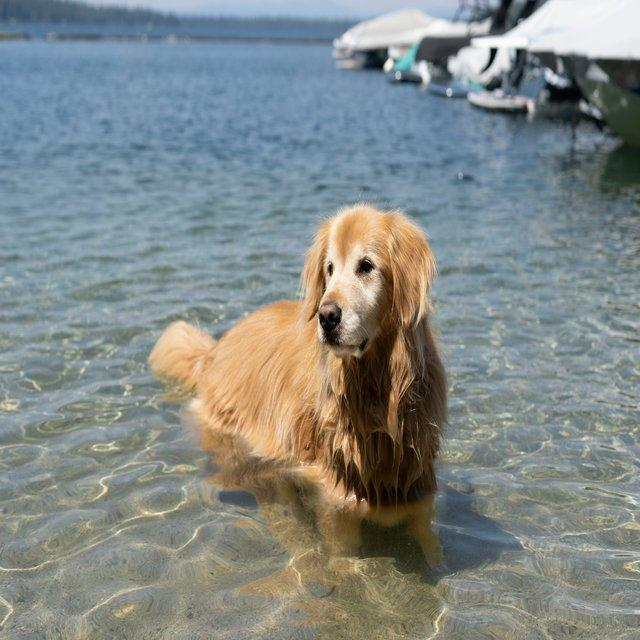retriever: (146, 201, 448, 507)
